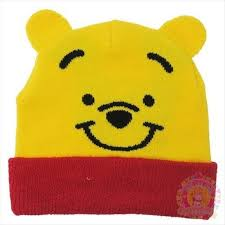Winnie: (19, 8, 225, 200)
